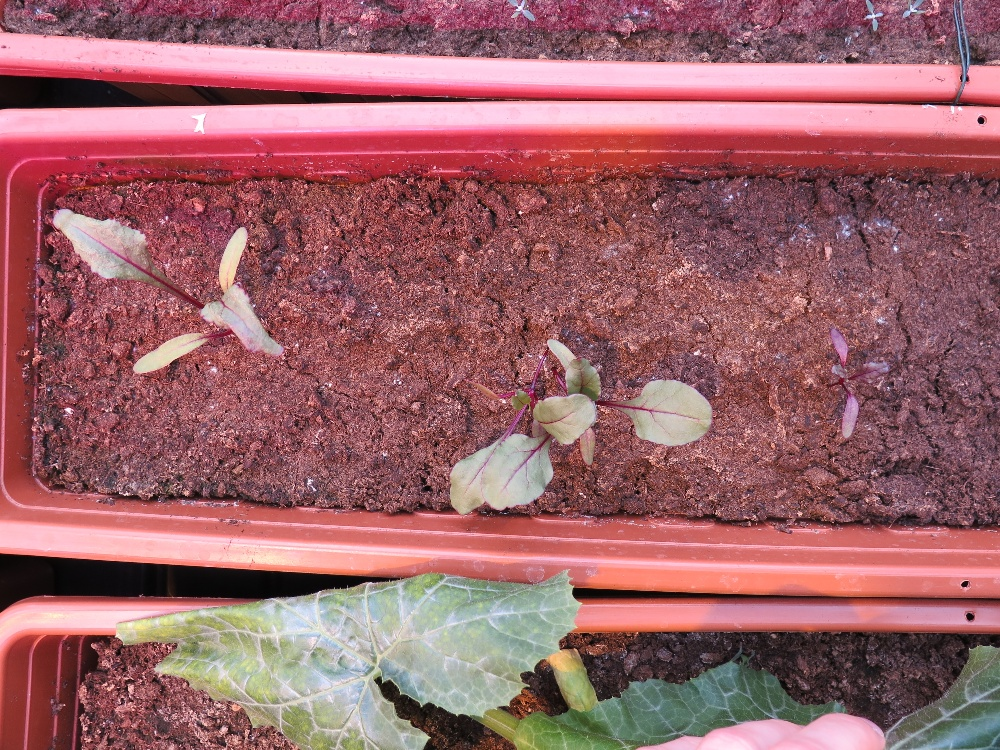crop: (30, 192, 330, 424), (425, 324, 721, 515), (796, 295, 896, 445)
weed: (502, 1, 541, 26), (857, 1, 884, 29), (900, 1, 925, 22)
